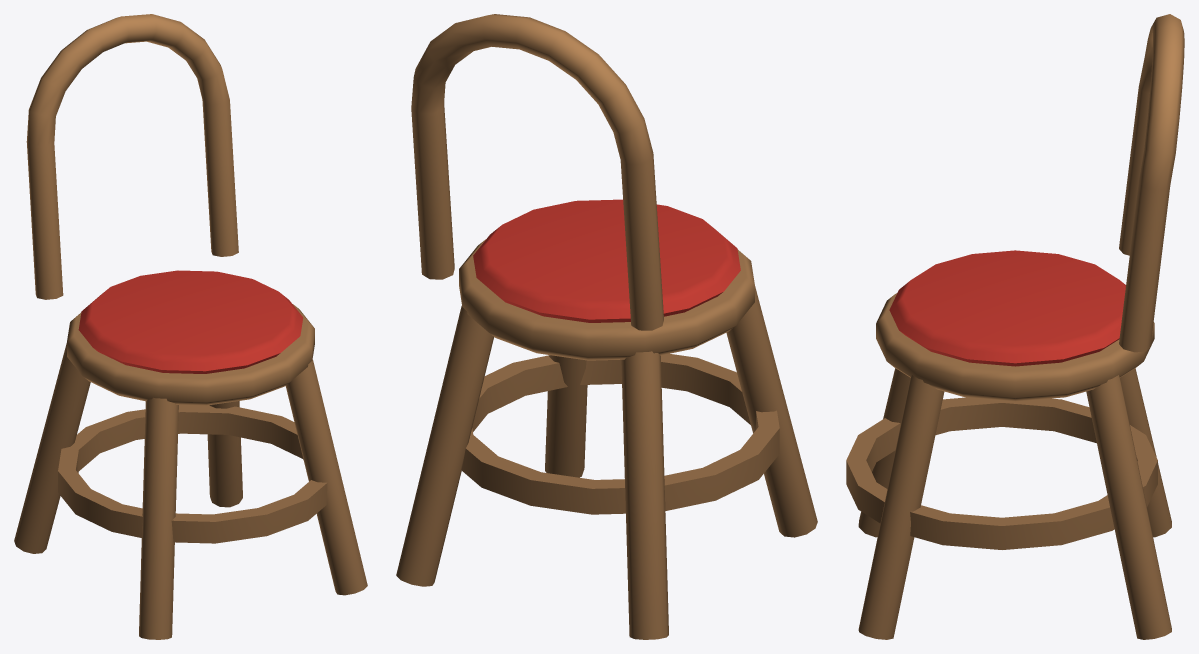
File: SM_Chair_Bentwood_01.glb
3 views of the same model, side by side, from view 1: azimuth 30°, elevation 25°; view 2: azimuth 150°, elevation 25°; view 3: azimuth 270°, elevation 25° (orthographic). The views are drawn at different scales.
Visible parts, largest first — view 1: SM_Chair_Bentwood_01; view 2: SM_Chair_Bentwood_01; view 3: SM_Chair_Bentwood_01.
Boxes of the visible parts, <box> form: SM_Chair_Bentwood_01: <box>14,14,367,639</box>; SM_Chair_Bentwood_01: <box>396,14,817,639</box>; SM_Chair_Bentwood_01: <box>846,14,1184,639</box>.
Bounding box in the file's own units: 0.47 × 0.9303 × 0.5104.
Materials: 1 (1 with a texture image).
